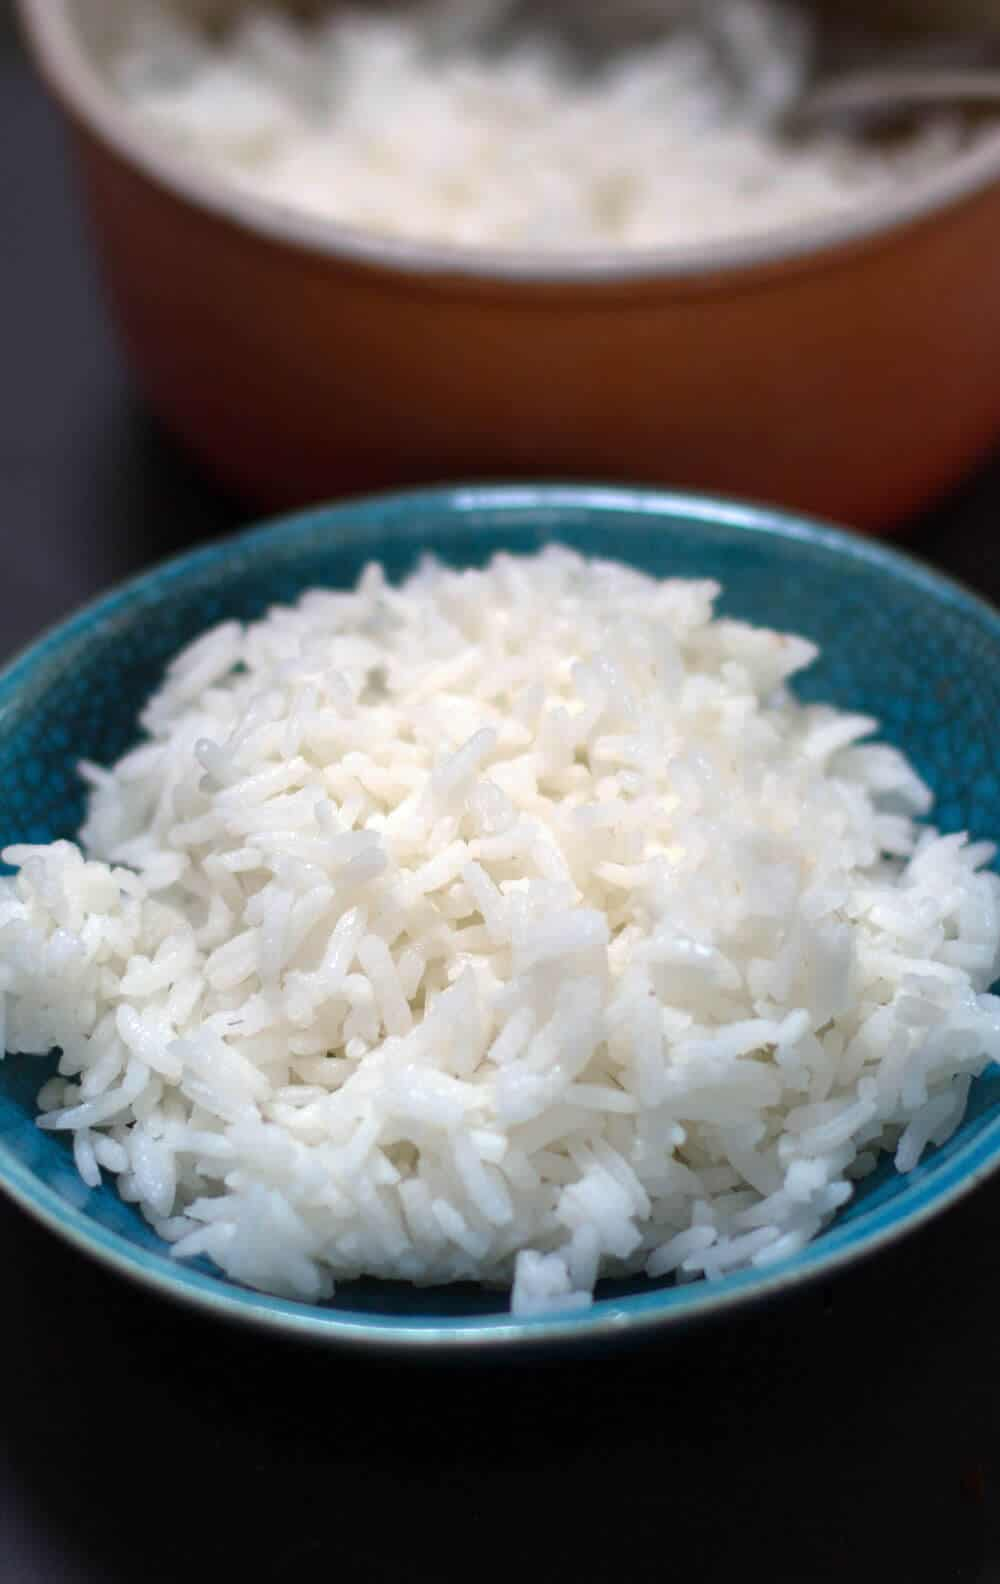rice: (41, 480, 999, 1249)
